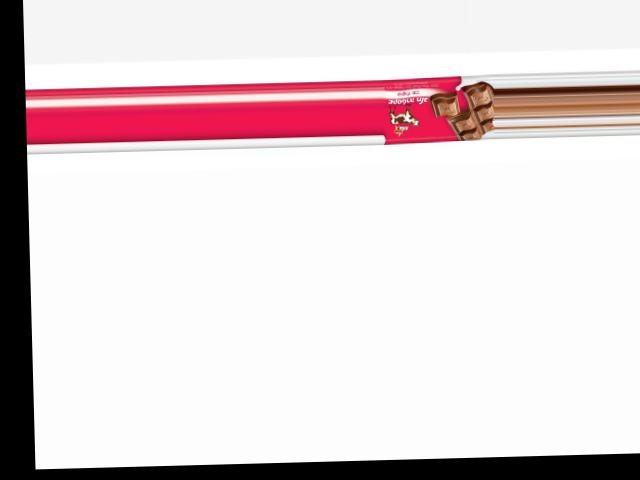chocolate: (381, 75, 493, 143)
